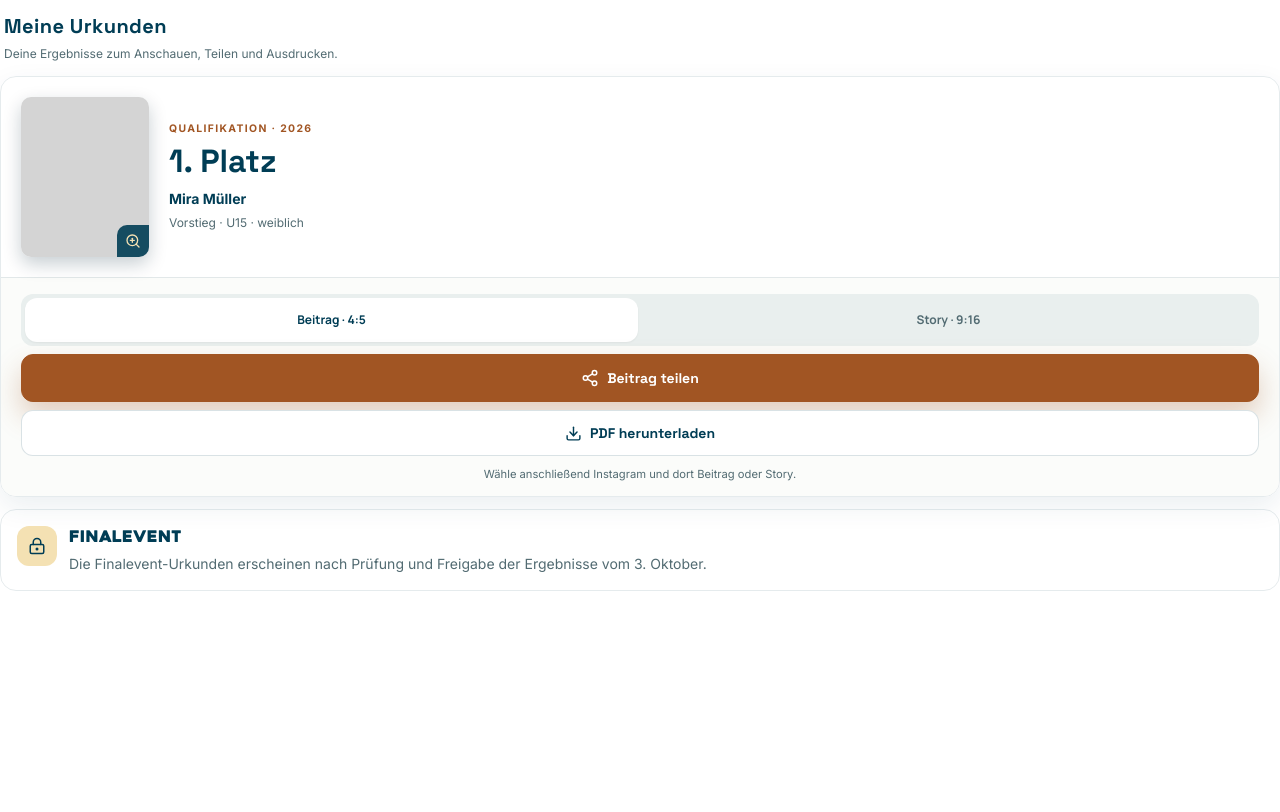
it: ProfileCertificates › opens native file sharing directly after tapping the prepared image
Click the button "Beitrag teilen". click: x=640, y=378
box: [21,354,1259,402]
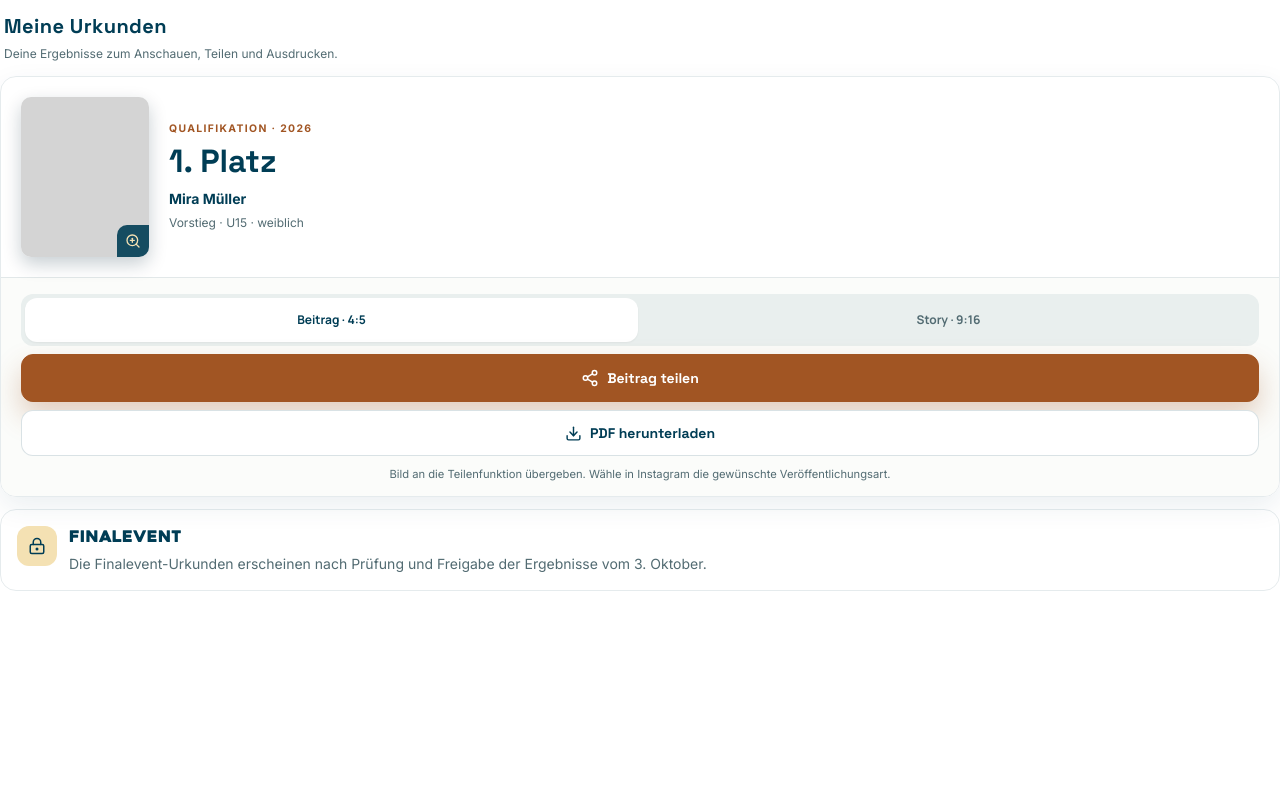
Result: the text "Bild an die Teilenfunktion übergeben" is shown at [389,467,890,481]
